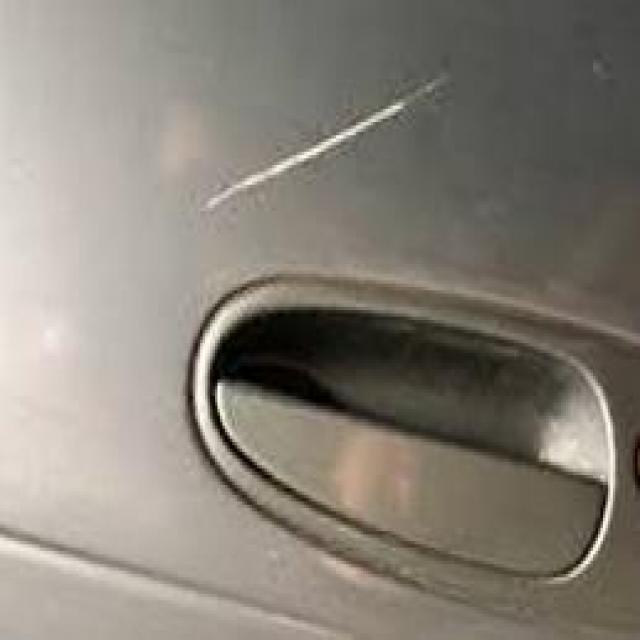scratch: (119, 31, 478, 282)
